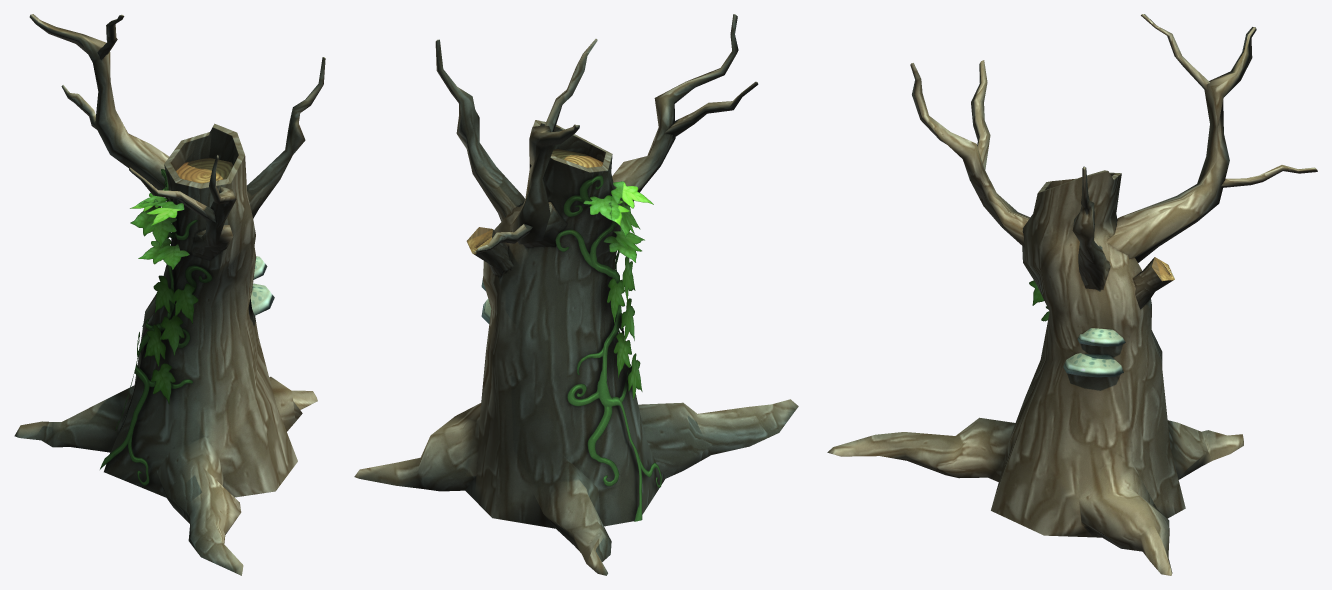
File: Mod_WM_Tree_Pine_09.fbx
3 renders of one model, left to right at view 1: azimuth 30°, elevation 25°; view 2: azimuth 150°, elevation 25°; view 3: azimuth 270°, elevation 25°, orthographic. The views are drawn at different scales.
Visible parts, largest first — view 1: polySurface492; view 2: polySurface492; view 3: polySurface492.
Boxes of the visible parts, left/top/right/bottom form: polySurface492: left=14, top=14, right=325, bottom=575; polySurface492: left=354, top=14, right=798, bottom=575; polySurface492: left=827, top=14, right=1317, bottom=575.
Bounding box in the file's own units: 113 × 172 × 167.
1 material, 1 textured.
